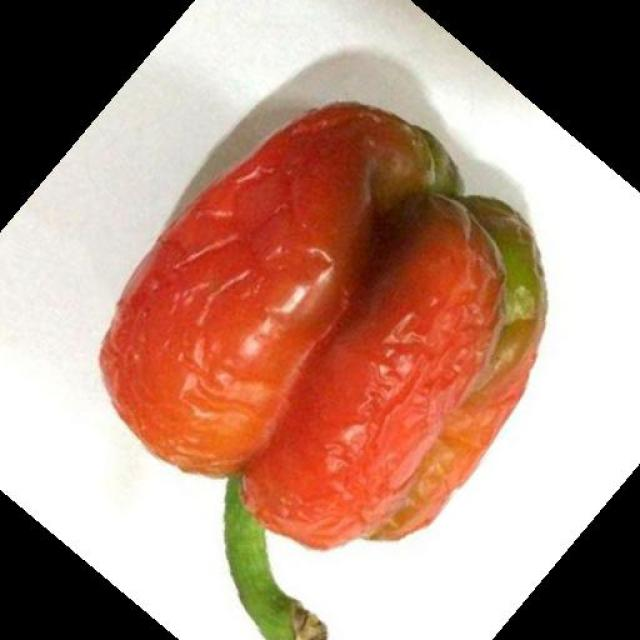Stale_Capsicum: (101, 79, 544, 574)
